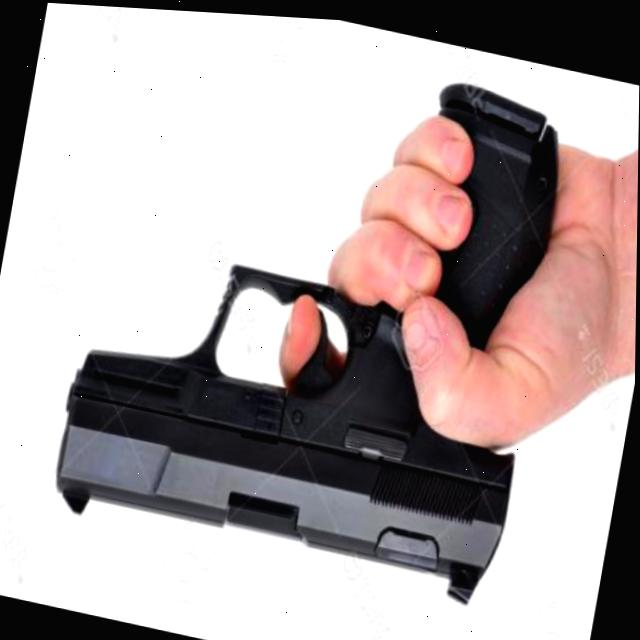pistol: (17, 1, 640, 639)
